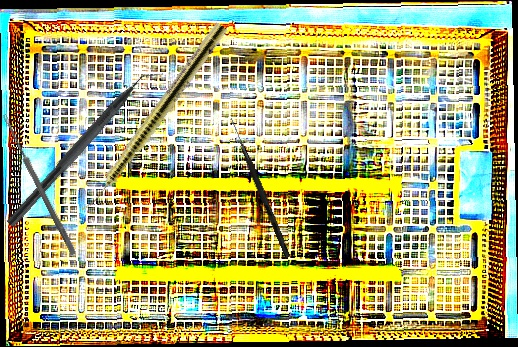Chopper: (6, 59, 166, 238)
Handpiece: (78, 20, 229, 218)
Hook Surgical: (226, 116, 293, 259)
Surgical Spoon: (0, 113, 78, 256)
